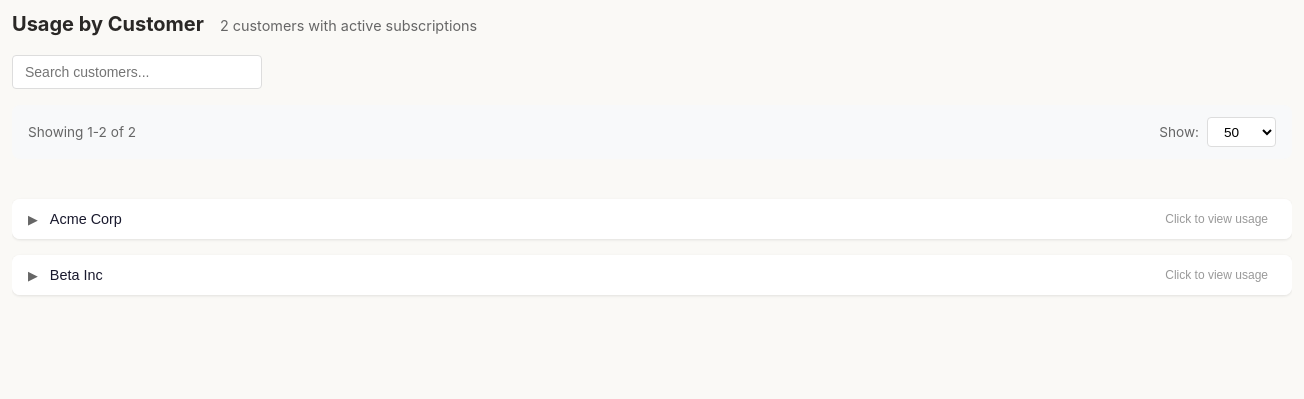
Test: CustomerUsageView › ARIA Attributes › should toggle aria-expanded back to false when collapsed
The width and height of the screenshot is (1304, 399).
Expected: the text "Acme Corp" is shown, [50,211,122,227]
Click the button "▶ Acme Corp Click to view usage". click: click(86, 219)
box: [12,199,1292,239]
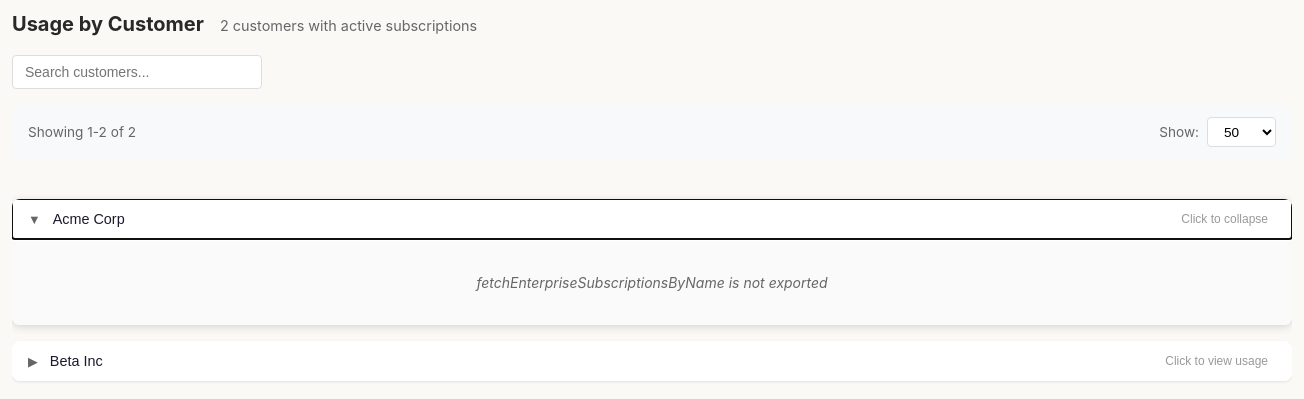
Expected: the button "▼ Acme Corp Click to collapse" is expanded
Click the button "▼ Acme Corp Click to collapse". click: click(89, 219)
box: [12,199,1292,239]
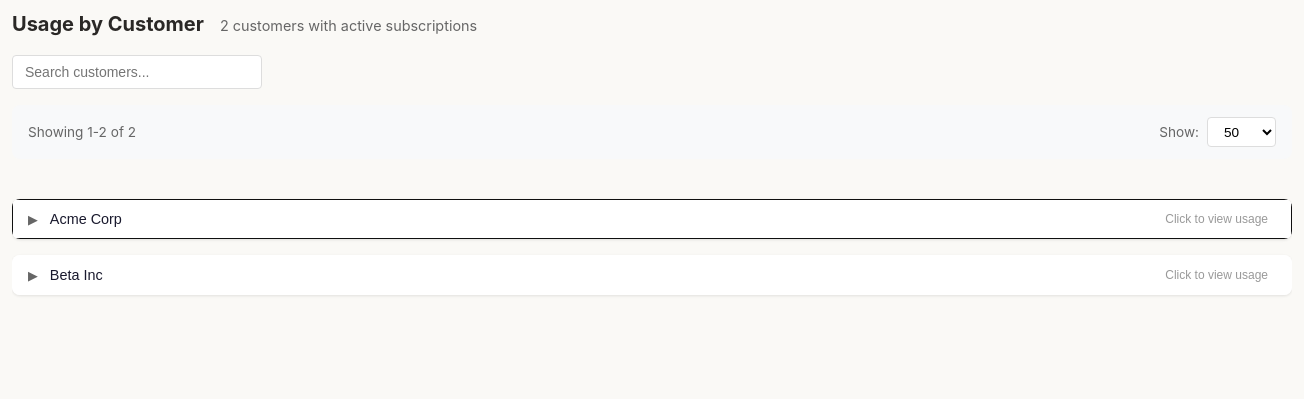
Expected: the button "▶ Acme Corp Click to view usage" is collapsed, [12,199,1292,239]
